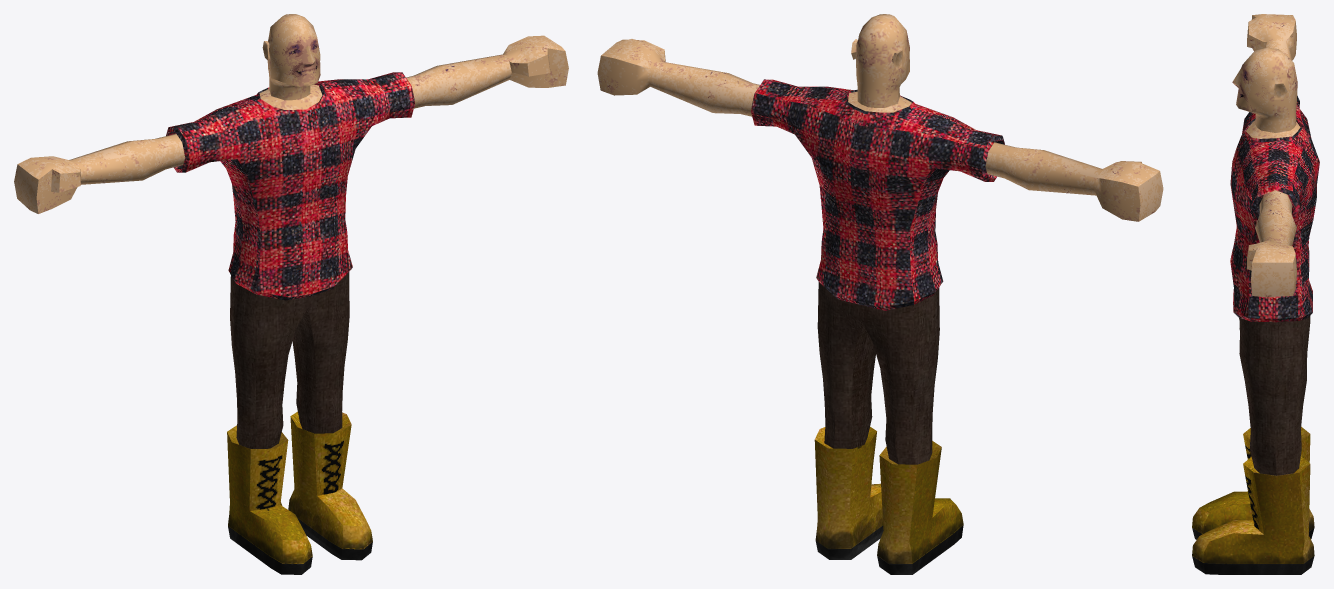
The model's file is sm_guy.obj.
3 views of the same model, side by side, from view 1: azimuth 30°, elevation 25°; view 2: azimuth 150°, elevation 25°; view 3: azimuth 270°, elevation 25° (orthographic). The views are drawn at different scales.
Visible parts, largest first — view 1: CharacterTemplate; view 2: CharacterTemplate; view 3: CharacterTemplate.
Part boxes in pixels (x1=…): CharacterTemplate: x1=14, y1=14, x2=568, y2=574; CharacterTemplate: x1=597, y1=14, x2=1163, y2=574; CharacterTemplate: x1=1192, y1=14, x2=1319, y2=574.
Size of the model in its own units: 2.14 by 2 by 0.4605.
